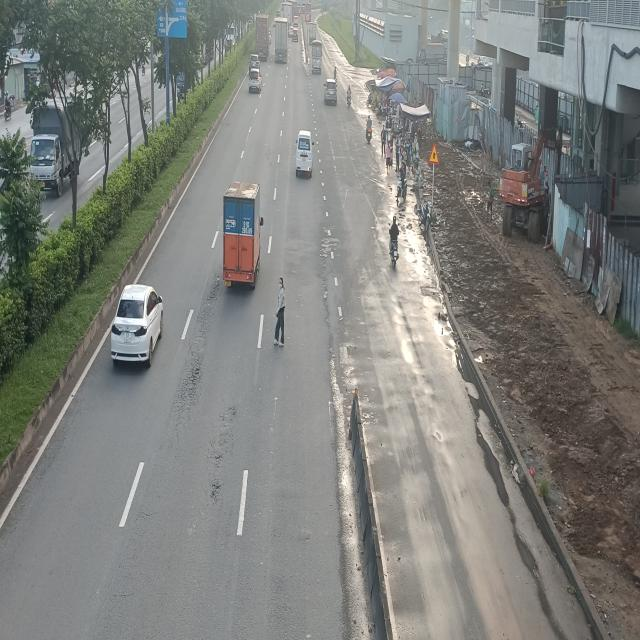car: (111, 285, 164, 370), (247, 66, 262, 93), (327, 78, 340, 105)
container: (274, 19, 287, 62), (255, 15, 268, 58)
truck: (220, 182, 262, 290)
van: (294, 130, 314, 179)
